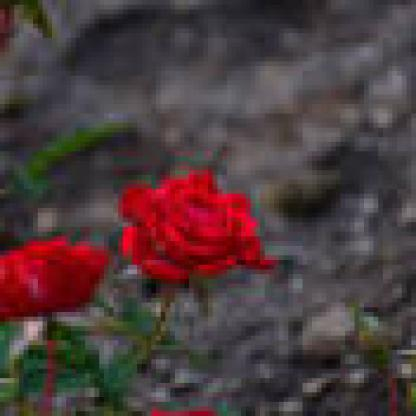Rose-Mawar: (105, 162, 275, 299), (1, 228, 110, 322)
